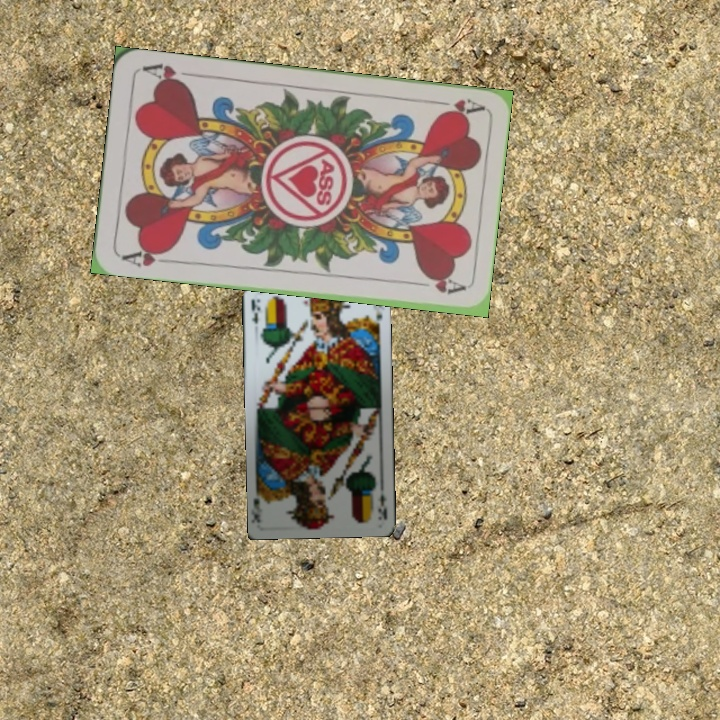EK: (247, 295, 263, 326), (373, 491, 390, 520)
HA: (118, 243, 176, 270), (426, 94, 485, 120)
